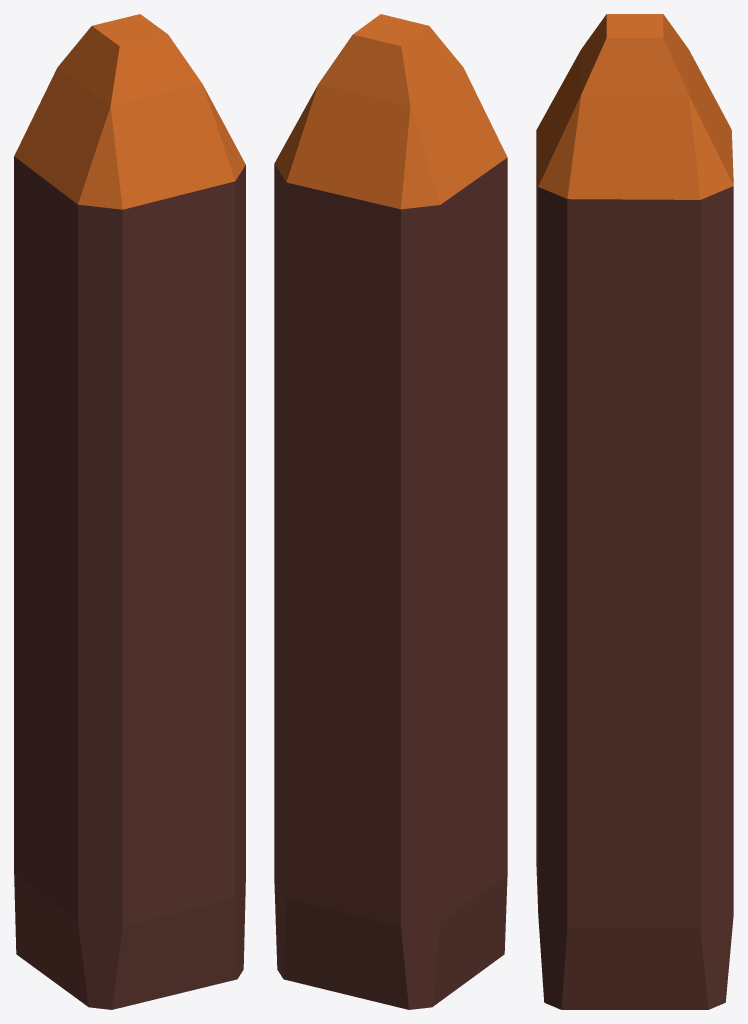
The model's file is pillar.fbx.
3 views of the same model, side by side, from view 1: azimuth 30°, elevation 25°; view 2: azimuth 150°, elevation 25°; view 3: azimuth 270°, elevation 25° (orthographic).
Parts seen in each view (by area): view 1: Cube.002; view 2: Cube.002; view 3: Cube.002.
Boxes of the visible parts, <box> form: Cube.002: <box>14,14,245,1009</box>; Cube.002: <box>274,14,507,1009</box>; Cube.002: <box>536,14,733,1009</box>.
Bounding box in the file's own units: 43.58 × 230 × 43.58.
